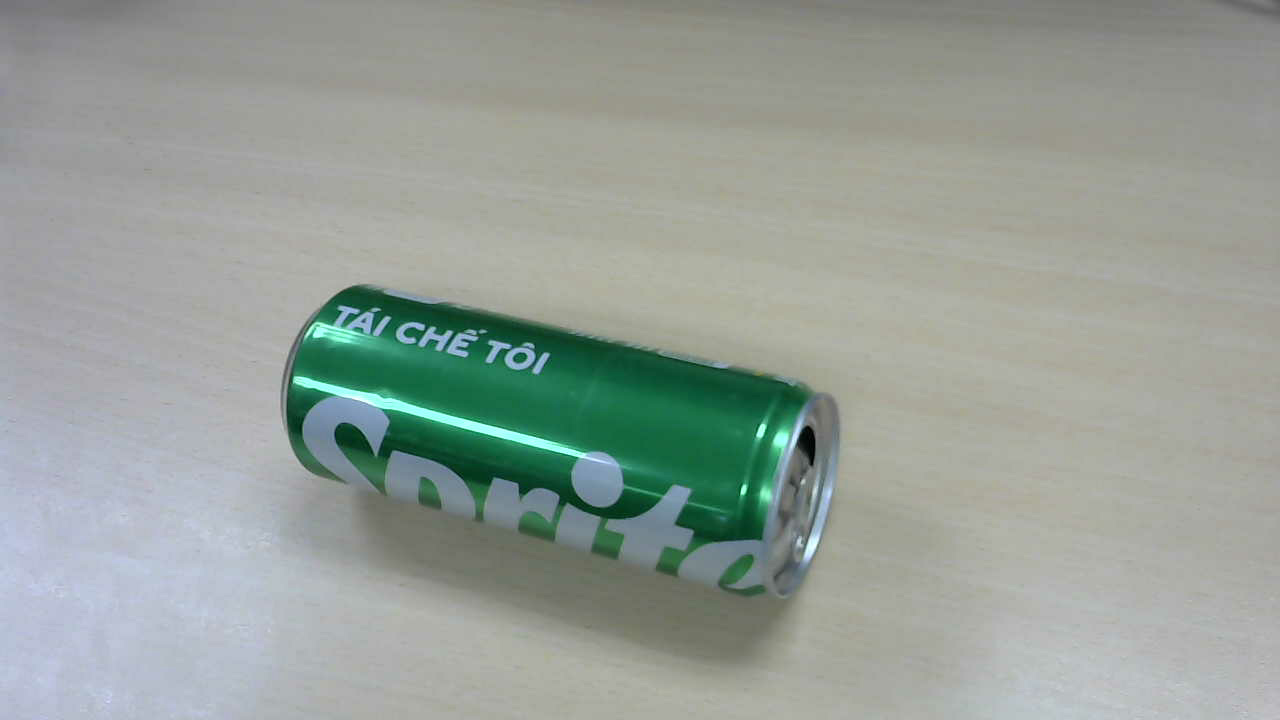Sprite: (281, 284, 856, 614)
